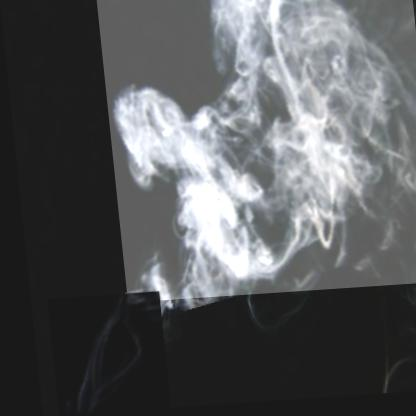smoke: (96, 0, 416, 304), (40, 293, 162, 415)
